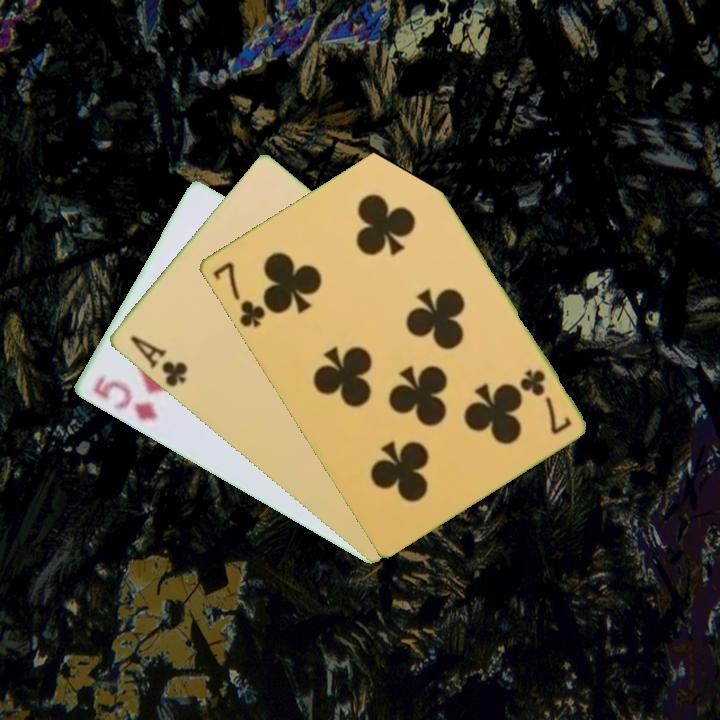5d: (89, 371, 160, 424)
7c: (209, 258, 268, 330), (516, 365, 574, 438)
Ac: (126, 331, 191, 390)
